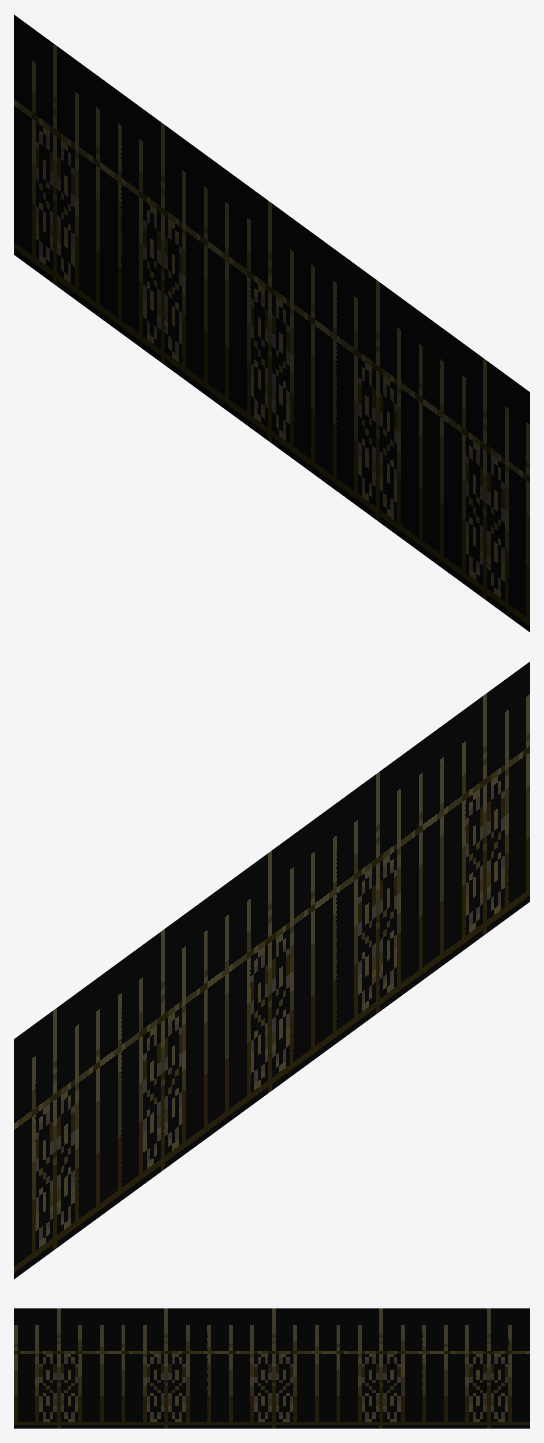
The model's file is Fence-Full.gltf.
The picture shows the model from 3 angles, top to bottom: view 1: azimuth 30°, elevation 25°; view 2: azimuth 150°, elevation 25°; view 3: azimuth 270°, elevation 25°; orthographic projection. The views are drawn at different scales.
Visible parts, largest first — view 1: Fence-Full; view 2: Fence-Full; view 3: Fence-Full.
Boxes of the visible parts, x1,y1,x2,y2 form: Fence-Full: (14, 15, 529, 631); Fence-Full: (14, 662, 529, 1278); Fence-Full: (14, 1308, 529, 1428).
Size of the model in its own units: 4.16e-16 by 2.31 by 9.
1 material, 1 textured.
